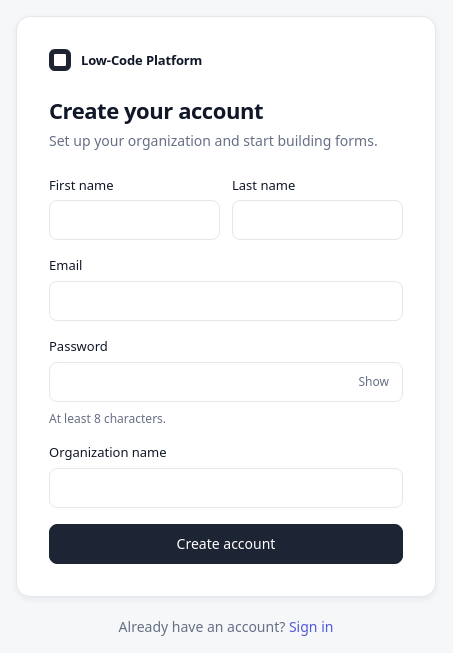
Test case: RegisterPage › submits the correct payload
Expected: the heading "Create your account" is shown, [49, 95, 263, 125]
Type "  Ada  " into the field labelled "First name" at (134, 220), box [49, 200, 220, 240]
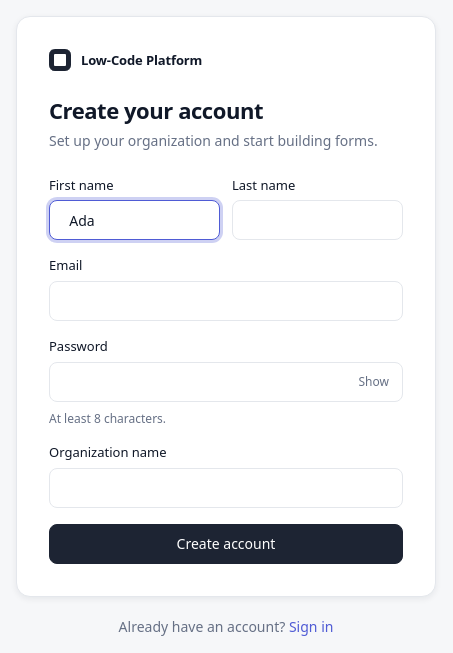
Type "Lovelace" into the field labelled "Last name" at (318, 220), box [232, 200, 403, 240]
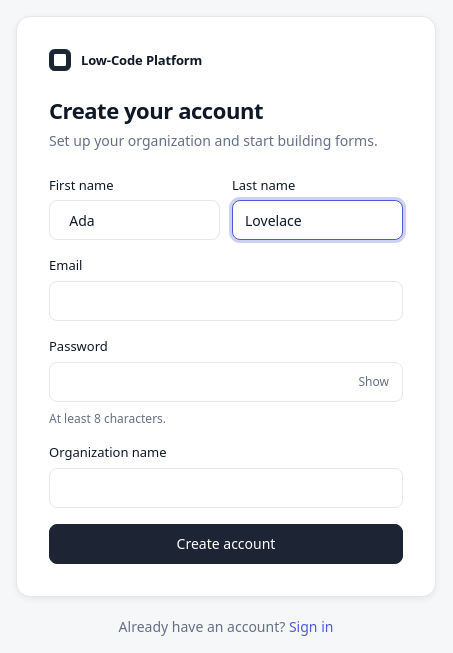
Type "ada@example.com" into the field labelled "Email" at (226, 301), box [49, 281, 403, 321]
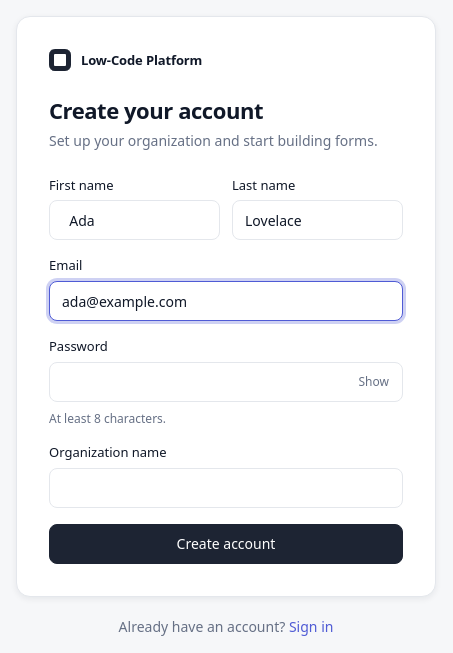
Type "Sup3r-Secret-Pass" into the password field labelled "Password" at (226, 382), box [49, 362, 403, 402]
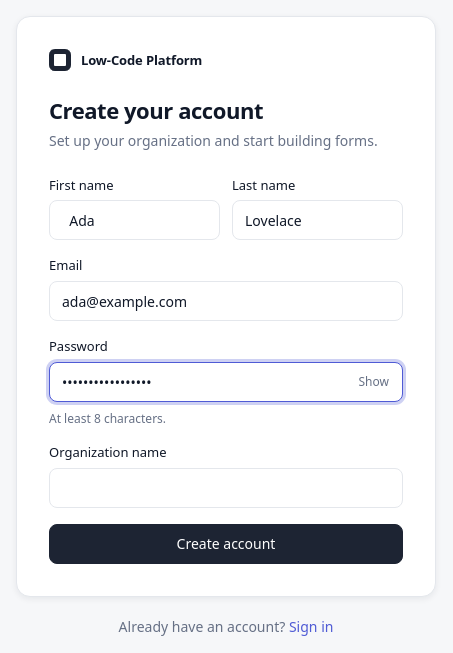
Type "Analytical Engines" into the field labelled "Organization name" at (226, 488), box [49, 468, 403, 508]
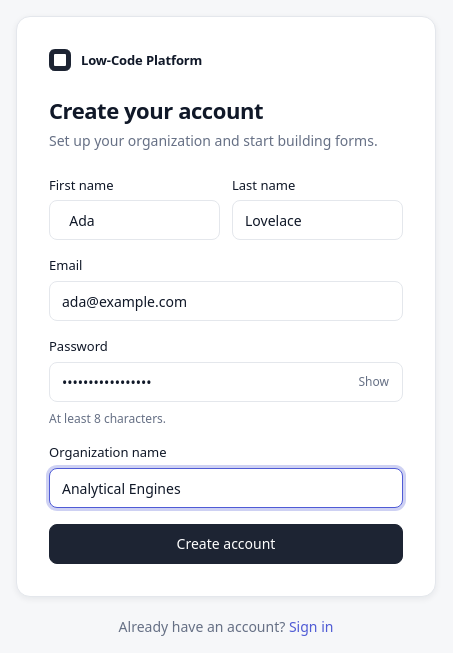
Click the button "Create account" at (226, 544), box [49, 524, 403, 564]
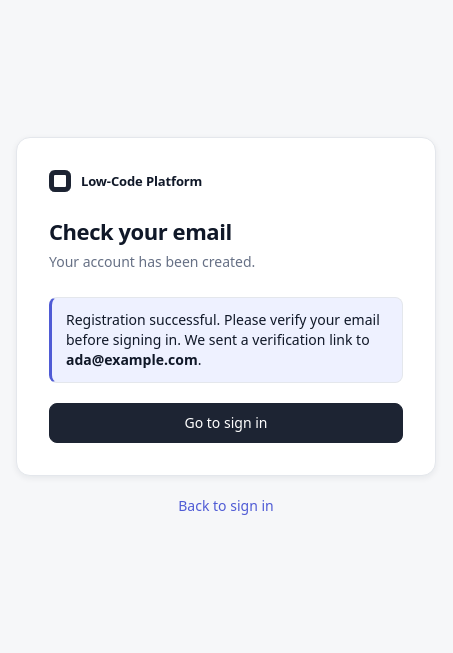
Now the heading "Check your email" is shown, box [49, 216, 232, 246]
